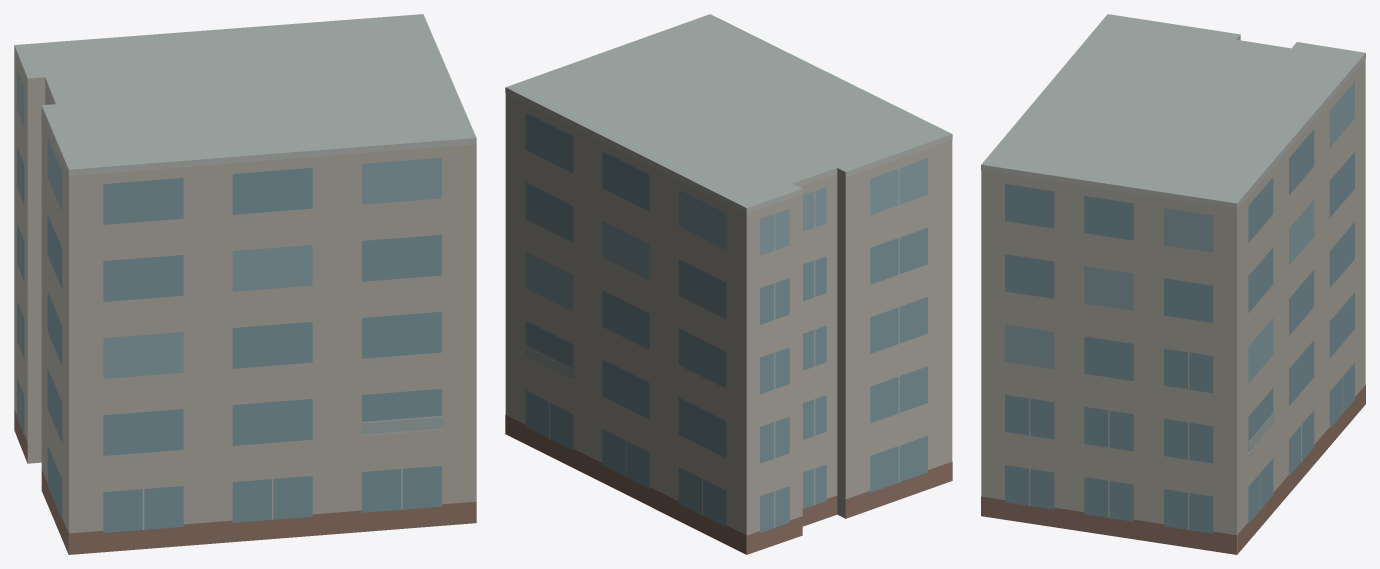
Rendered from survey-upis-32888496.glb.
3 renders of one model, left to right at view 1: azimuth 30°, elevation 25°; view 2: azimuth 150°, elevation 25°; view 3: azimuth 270°, elevation 25°, orthographic. The views are drawn at different scales.
Visible parts, largest first — view 1: survey-upis-32888496.tmp; view 2: survey-upis-32888496.tmp; view 3: survey-upis-32888496.tmp.
Part boxes in pixels (left/top/right/bottom): survey-upis-32888496.tmp: left=14, top=14, right=476, bottom=554; survey-upis-32888496.tmp: left=505, top=14, right=952, bottom=554; survey-upis-32888496.tmp: left=981, top=14, right=1365, bottom=554.
Size of the model in its own units: 17.01 by 14.7 by 14.59.
